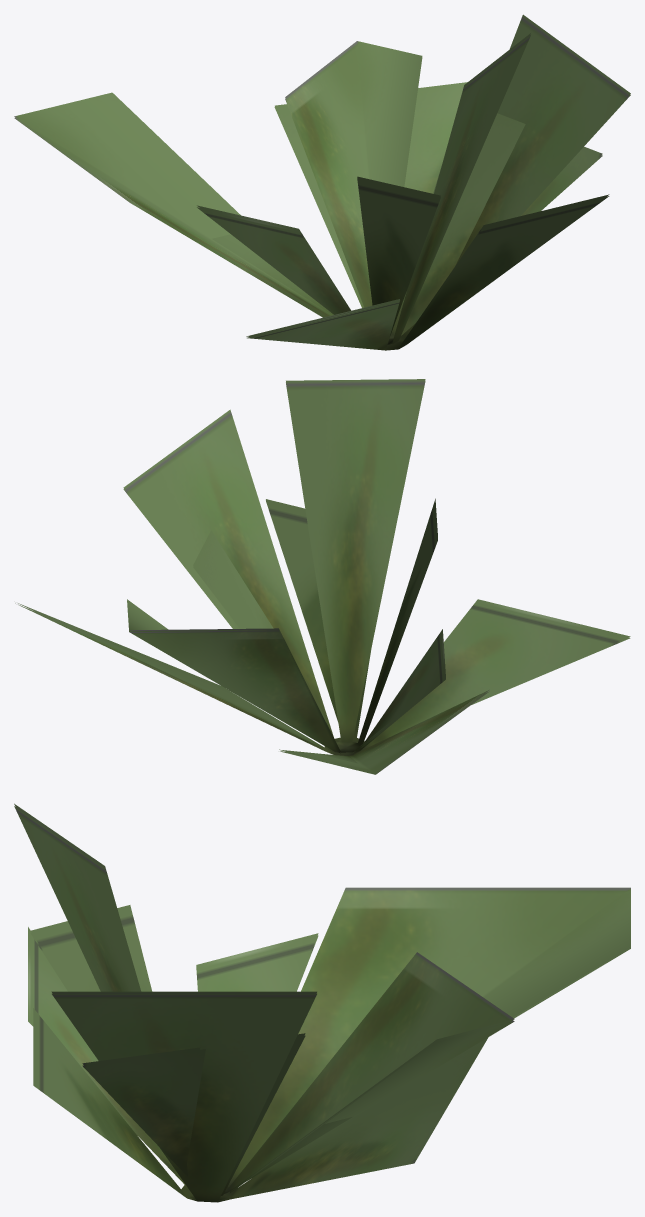
Rendered from BgMD_Tanihira_PlantY_06_01.fbx.
3 views of the same model, one above another, from view 1: azimuth 30°, elevation 25°; view 2: azimuth 150°, elevation 25°; view 3: azimuth 270°, elevation 25° (orthographic). The views are drawn at different scales.
Parts seen in each view (by area): view 1: pPlane11; view 2: pPlane11; view 3: pPlane11.
Boxes of the visible parts, bbox=[...] form: pPlane11: bbox=[14, 14, 630, 350]; pPlane11: bbox=[15, 379, 630, 774]; pPlane11: bbox=[14, 803, 630, 1202].
Size of the model in its own units: 19.22 by 12.4 by 17.89.
